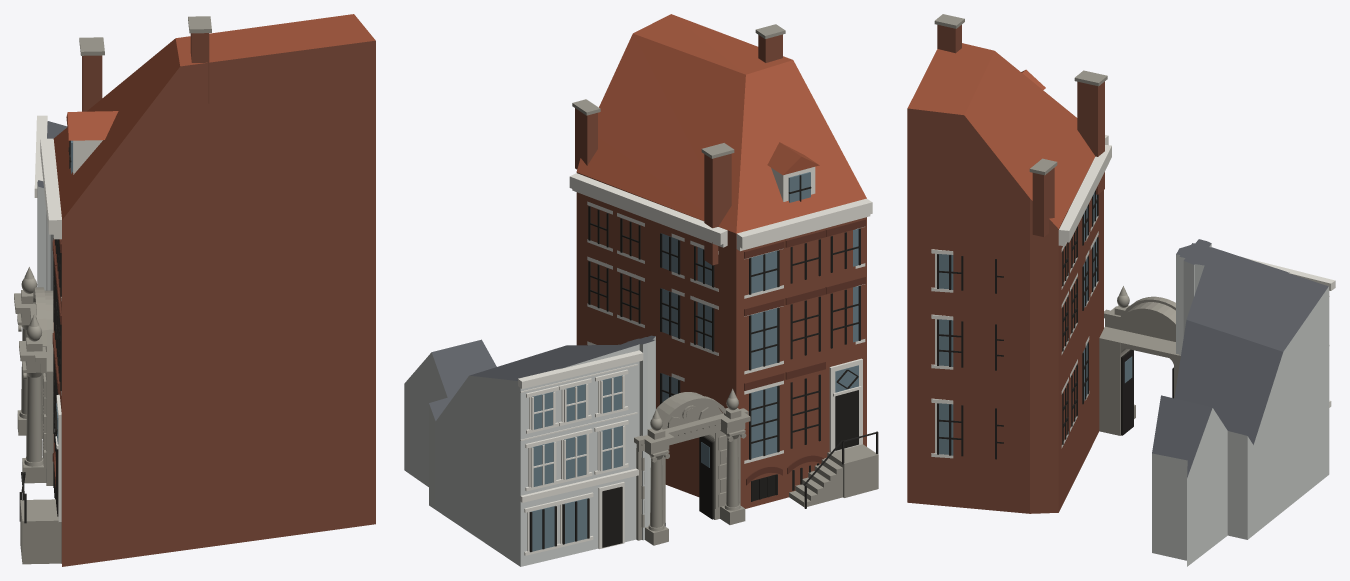
File: oudemanhuispoort.glb
The picture shows the model from 3 angles, left to right: view 1: azimuth 30°, elevation 25°; view 2: azimuth 150°, elevation 25°; view 3: azimuth 270°, elevation 25°; orthographic projection. The views are drawn at different scales.
Parts seen in each view (by area): view 1: oudemanhuispoort; view 2: oudemanhuispoort; view 3: oudemanhuispoort.
Part boxes in pixels (x1,y1,x2,y2): oudemanhuispoort: [14, 14, 375, 566]; oudemanhuispoort: [404, 14, 878, 566]; oudemanhuispoort: [907, 14, 1335, 566].
Size of the model in its own units: 17.1 by 18.19 by 16.63.
